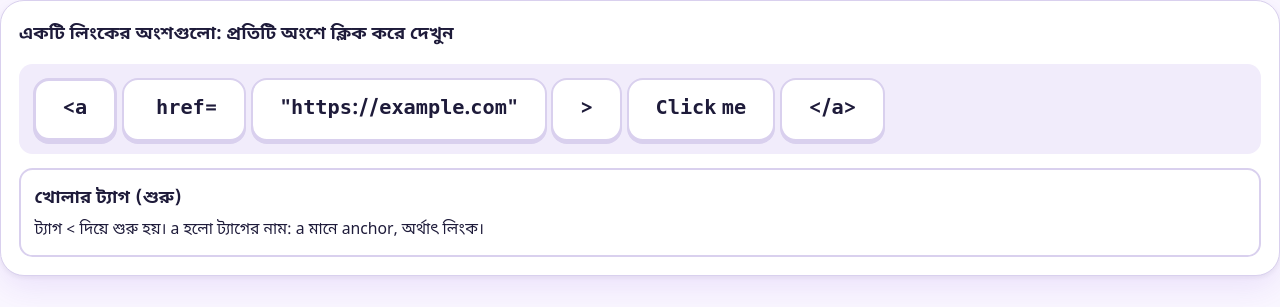
Test case: html-anatomy › shows details of the clicked part
Click the button "</a>" at (832, 109), box [780,78,885,140]
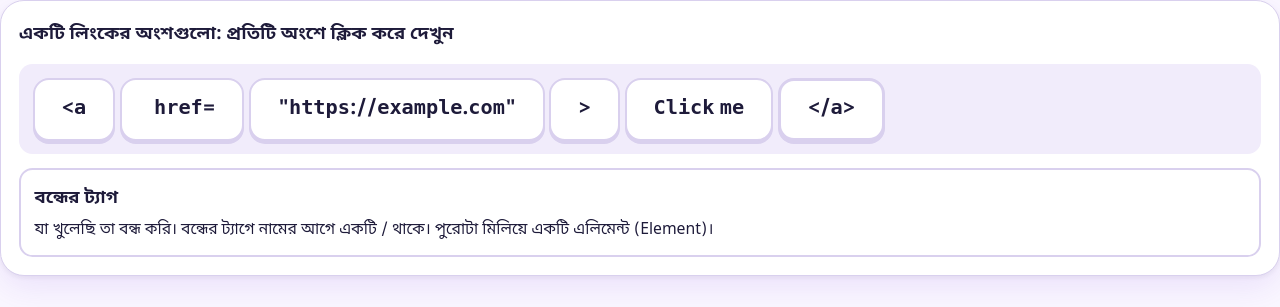
Expected: the element with test id "html-anatomy-info" shows "বন্ধের ট্যাগ", [34,186,118,210]
